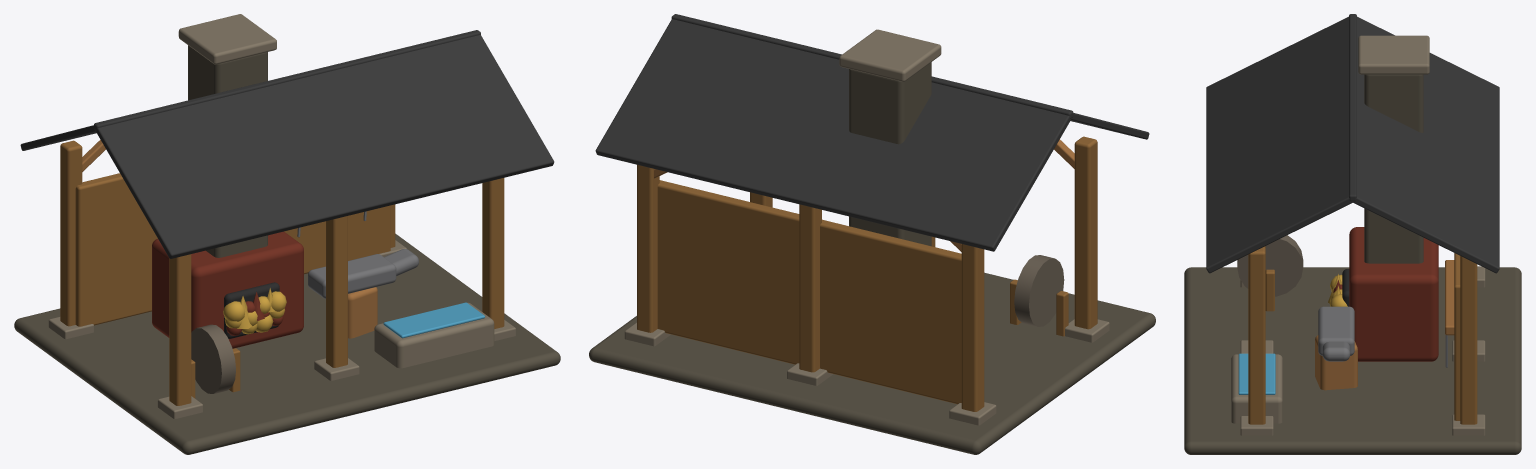
File: forge.glb
3 renders of one model, left to right at view 1: azimuth 30°, elevation 25°; view 2: azimuth 150°, elevation 25°; view 3: azimuth 270°, elevation 25°, orthographic. The views are drawn at different scales.
Parts seen in each view (by area): view 1: forge-farm-roof-slate, forge-farm-stone-dark, forge-farm-wood-dark, forge-farm-barn-red-dark, forge-farm-stone, forge-farm-metal, forge-farm-rock, forge-farm-water, forge-farm-wood, forge-farm-gold, forge-farm-window; view 2: forge-farm-roof-slate, forge-farm-wood-dark, forge-farm-stone-dark, forge-farm-stone, forge-farm-rock; view 3: forge-farm-roof-slate, forge-farm-stone-dark, forge-farm-barn-red-dark, forge-farm-wood-dark, forge-farm-stone, forge-farm-wood, forge-farm-metal, forge-farm-rock, forge-farm-water, forge-farm-gold.
Boxes of the visible parts, <box> form: forge-farm-roof-slate: <box>20,30,554,258</box>; forge-farm-stone-dark: <box>14,45,560,454</box>; forge-farm-wood-dark: <box>60,140,504,405</box>; forge-farm-barn-red-dark: <box>152,231,303,348</box>; forge-farm-stone: <box>48,14,515,418</box>; forge-farm-metal: <box>297,211,418,298</box>; forge-farm-rock: <box>191,324,235,393</box>; forge-farm-water: <box>383,302,484,338</box>; forge-farm-wood: <box>82,140,377,338</box>; forge-farm-gold: <box>223,288,286,334</box>; forge-farm-window: <box>224,282,279,338</box>; forge-farm-roof-slate: <box>595,14,1149,251</box>; forge-farm-wood-dark: <box>637,136,1097,411</box>; forge-farm-stone-dark: <box>589,62,1155,454</box>; forge-farm-stone: <box>624,29,1109,425</box>; forge-farm-rock: <box>1014,255,1064,326</box>; forge-farm-roof-slate: <box>1206,14,1499,273</box>; forge-farm-stone-dark: <box>1184,74,1521,454</box>; forge-farm-barn-red-dark: <box>1333,227,1438,361</box>; forge-farm-wood-dark: <box>1248,246,1477,424</box>; forge-farm-stone: <box>1231,35,1485,435</box>; forge-farm-wood: <box>1315,260,1454,390</box>; forge-farm-metal: <box>1318,306,1447,367</box>; forge-farm-rock: <box>1237,235,1303,296</box>; forge-farm-water: <box>1238,353,1275,394</box>; forge-farm-gold: <box>1328,274,1347,306</box>.
Size of the model in its own units: 6.51 by 5 by 5.1.
